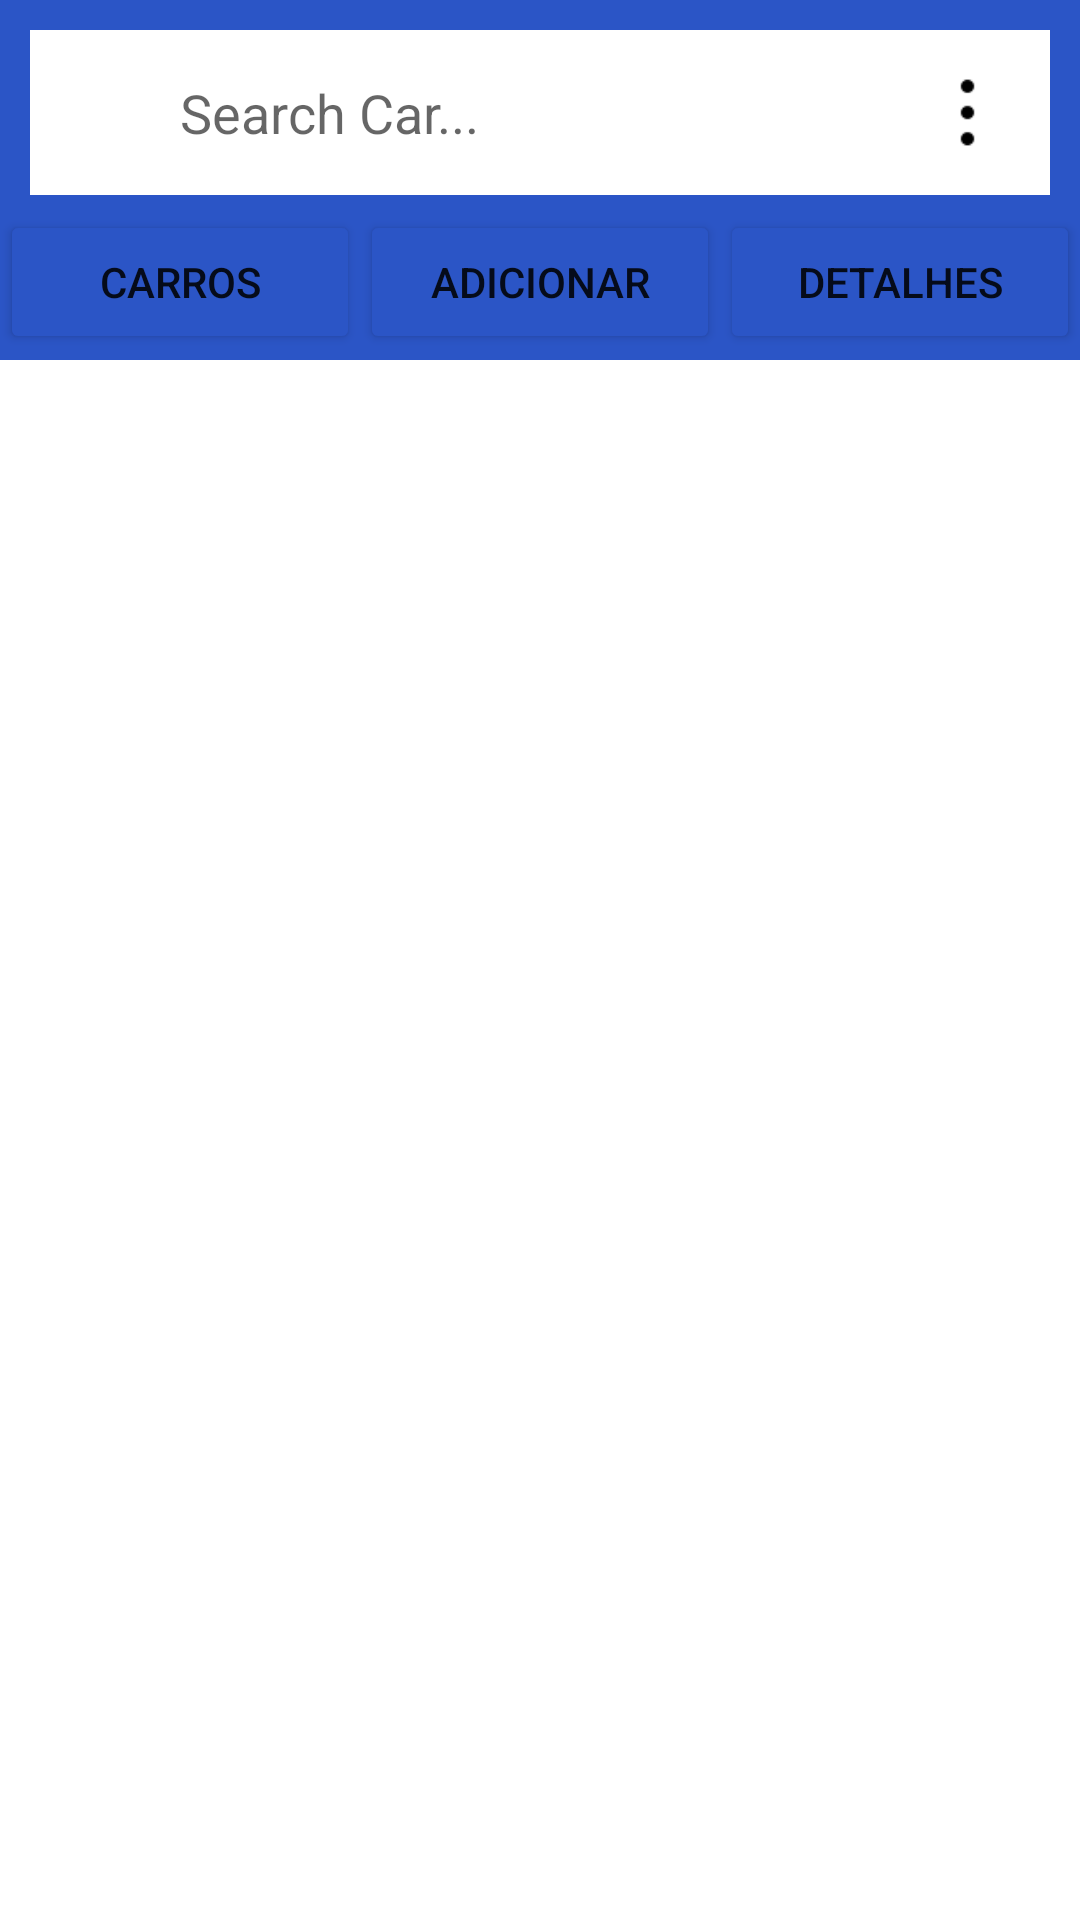

Screen size 1080px x 1920px. Icon name, then its center in pixels as (x=x, y=y):
vertical: (x=967, y=112)
